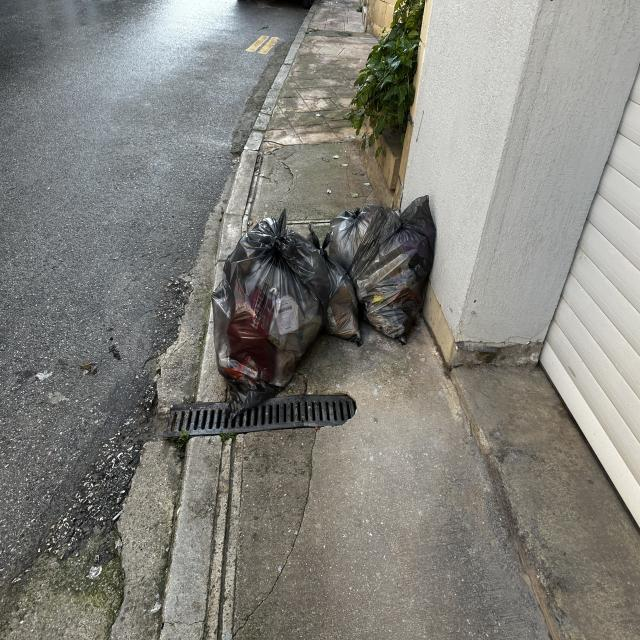Mixed Waste -Black Bags-: (210, 194, 437, 420)
